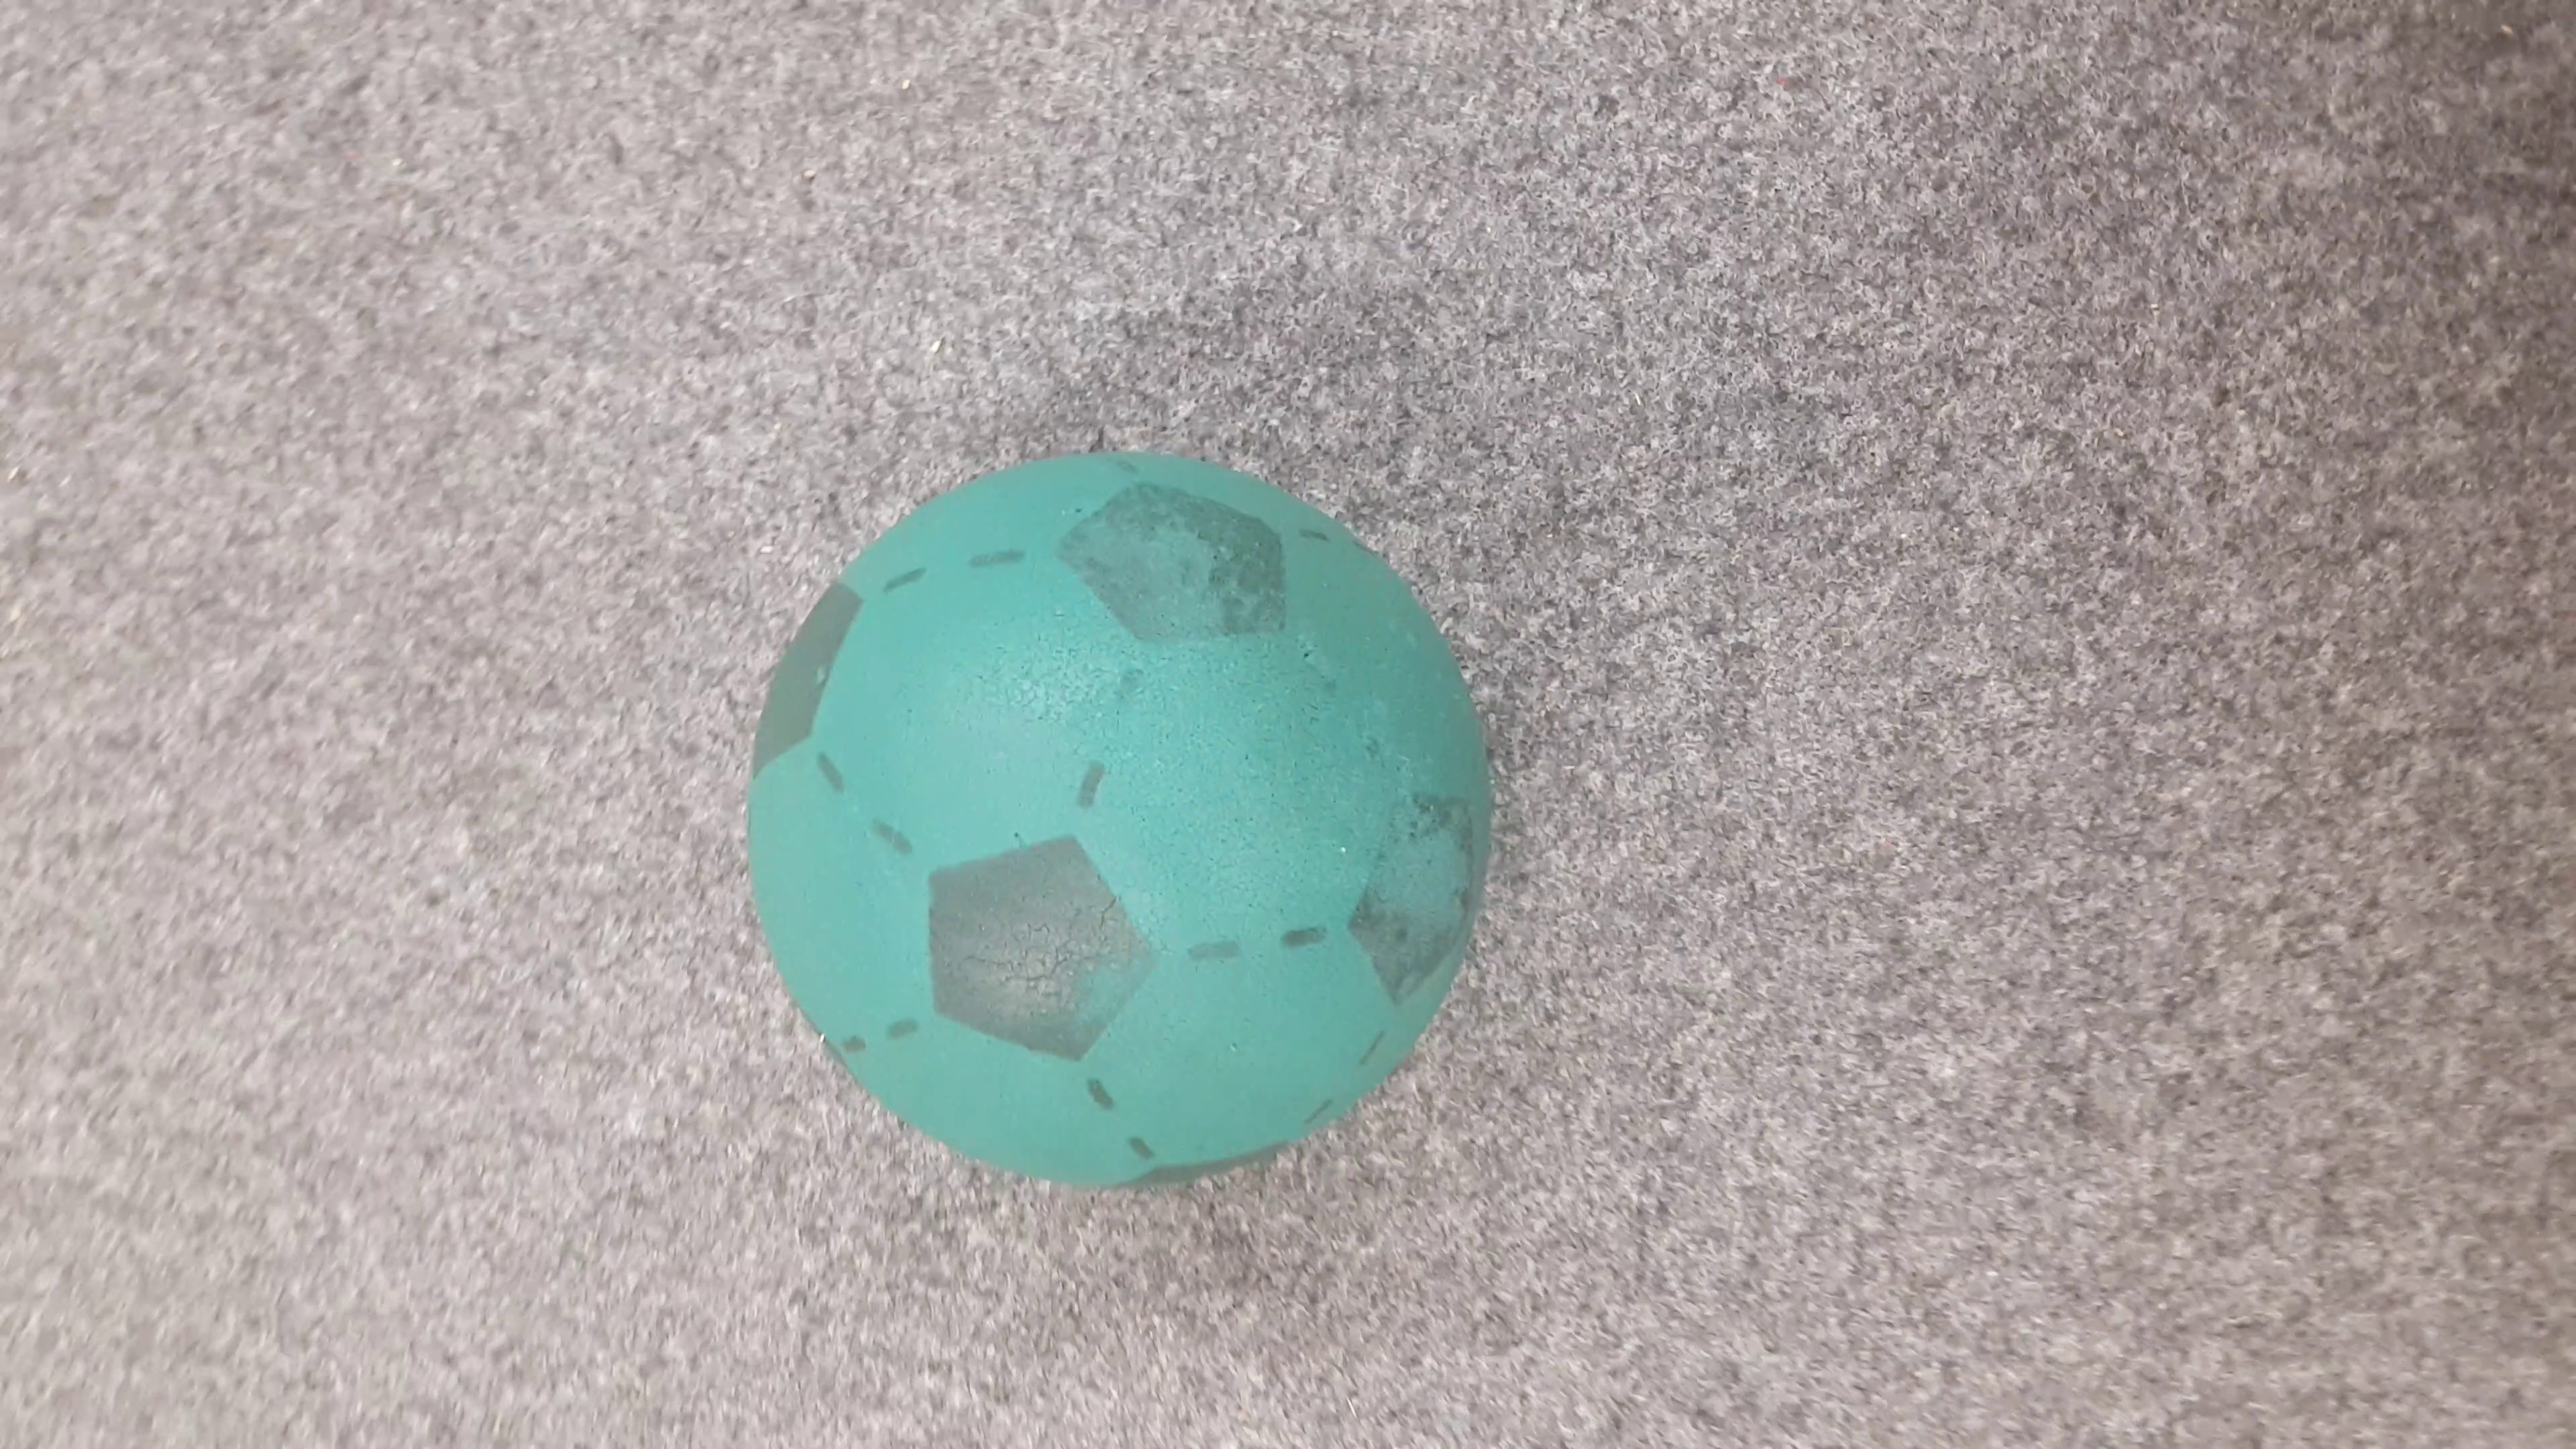kick: (759, 448, 1500, 1185)
